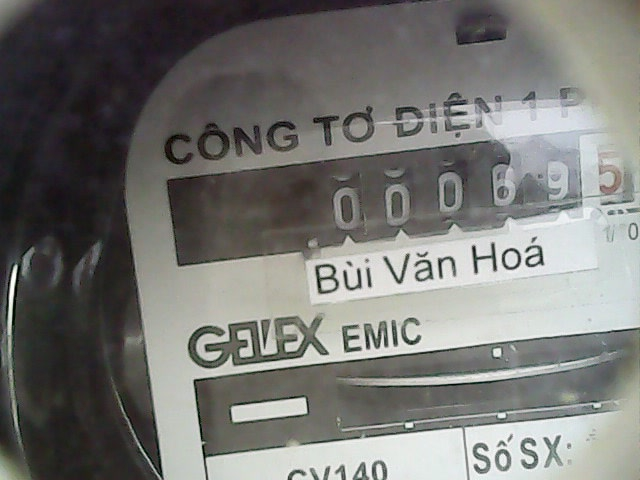phy_plate: (314, 122, 640, 235)
